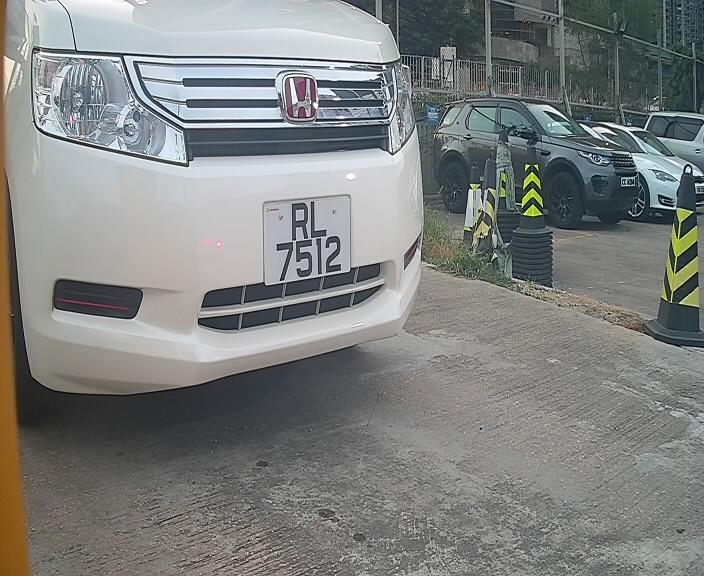privatecar: (10, 11, 441, 407)
